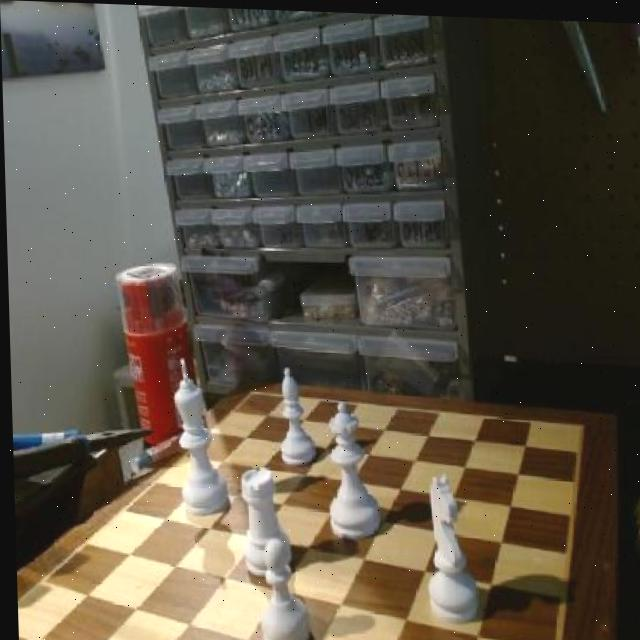black-rook: (271, 362, 317, 470)
white-bishop: (171, 346, 226, 525)
white-king: (419, 463, 474, 623)
white-knight: (246, 533, 307, 640)
white-pawn: (321, 395, 382, 545)
white-queen: (232, 462, 290, 579)
